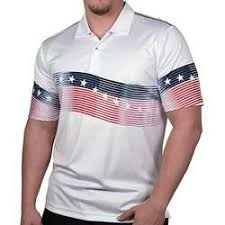S_polo shirt: (23, 10, 211, 223)
